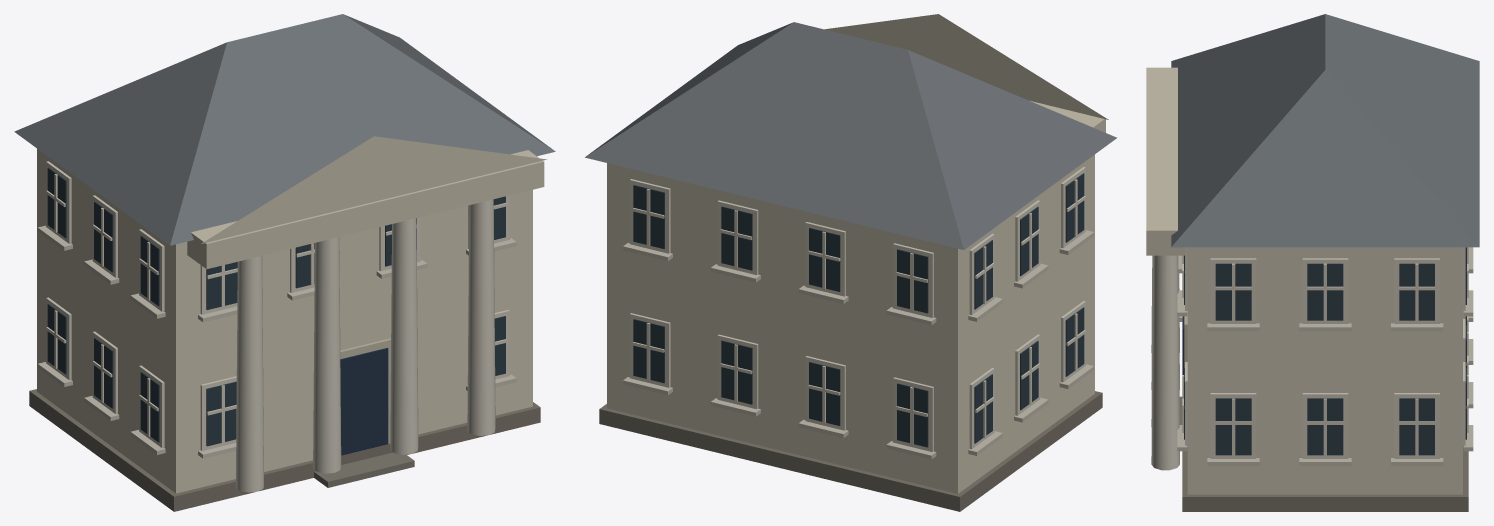
Rendered from procedural_library@6.glb.
The picture shows the model from 3 angles, left to right: view 1: azimuth 30°, elevation 25°; view 2: azimuth 150°, elevation 25°; view 3: azimuth 270°, elevation 25°; orthographic projection.
Visible parts, largest first — view 1: part_0; view 2: part_0; view 3: part_0.
Boxes of the visible parts, x1=… form: part_0: x1=14, y1=14, x2=555, y2=511; part_0: x1=585, y1=14, x2=1116, y2=511; part_0: x1=1146, y1=14, x2=1479, y2=511.
Bounding box in the file's own units: 8 × 7.65 × 6.05.
